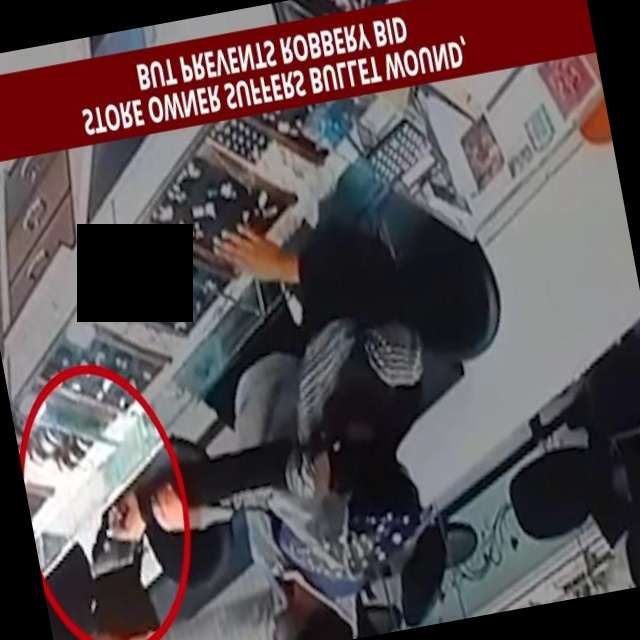gun: (78, 512, 140, 582)
